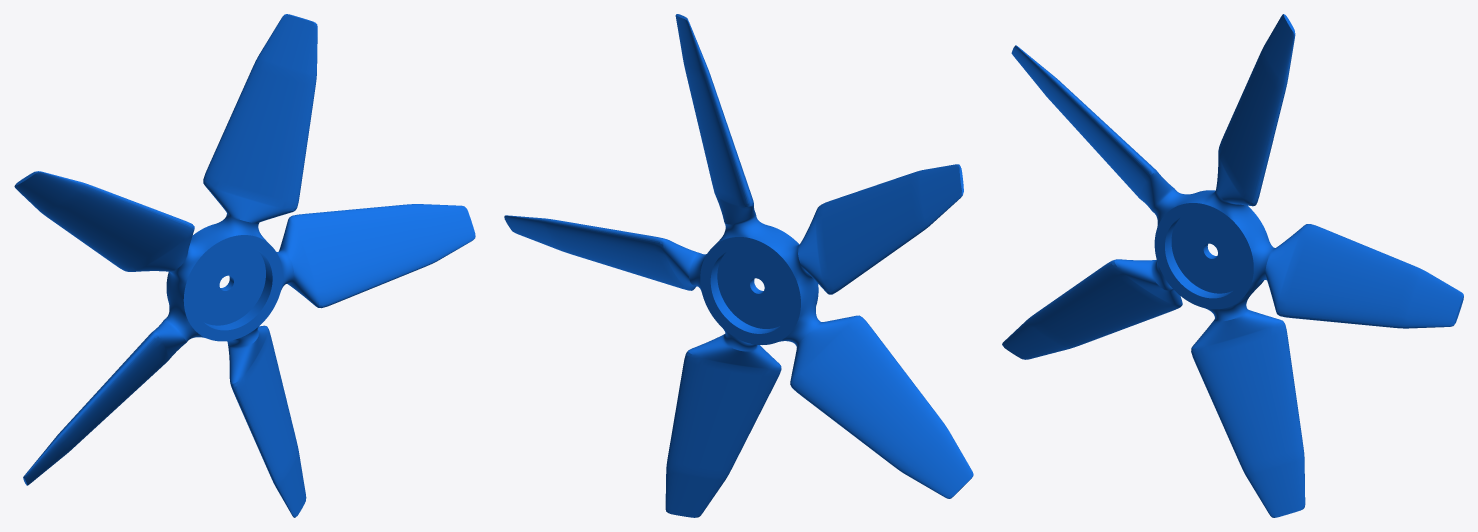
File: Novahelice.fbx
3 renders of one model, left to right at view 1: azimuth 30°, elevation 25°; view 2: azimuth 150°, elevation 25°; view 3: azimuth 330°, elevation 25°, orthographic.
Visible parts, largest first — view 1: Cylinder; view 2: Cylinder; view 3: Cylinder.
Part boxes in pixels (x1,y1,x2,y2): Cylinder: [14, 14, 475, 517]; Cylinder: [504, 14, 973, 517]; Cylinder: [1002, 14, 1463, 517].
Size of the model in its own units: 854 by 897 by 102.
